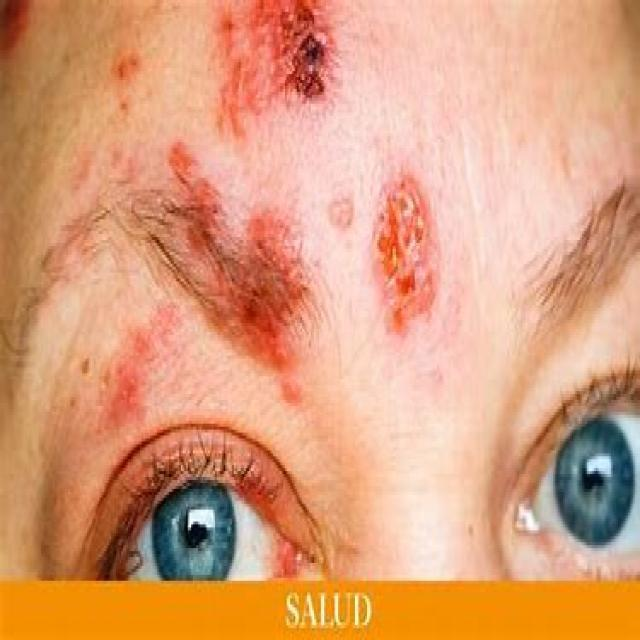Shingles: (163, 133, 312, 405), (212, 0, 333, 134), (86, 300, 179, 443), (374, 172, 441, 332)
